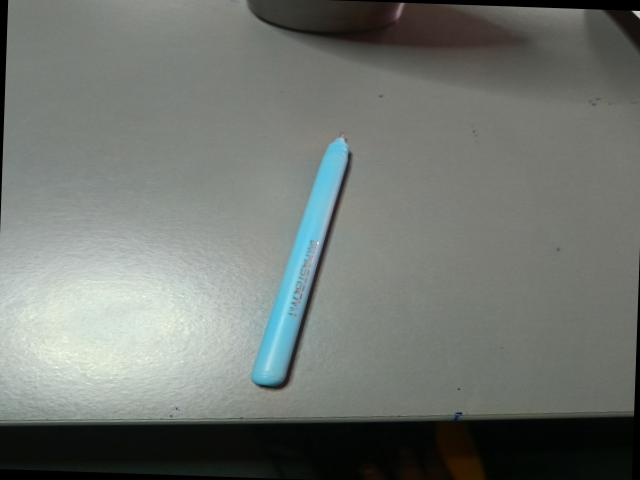PEN: (253, 131, 353, 399)
